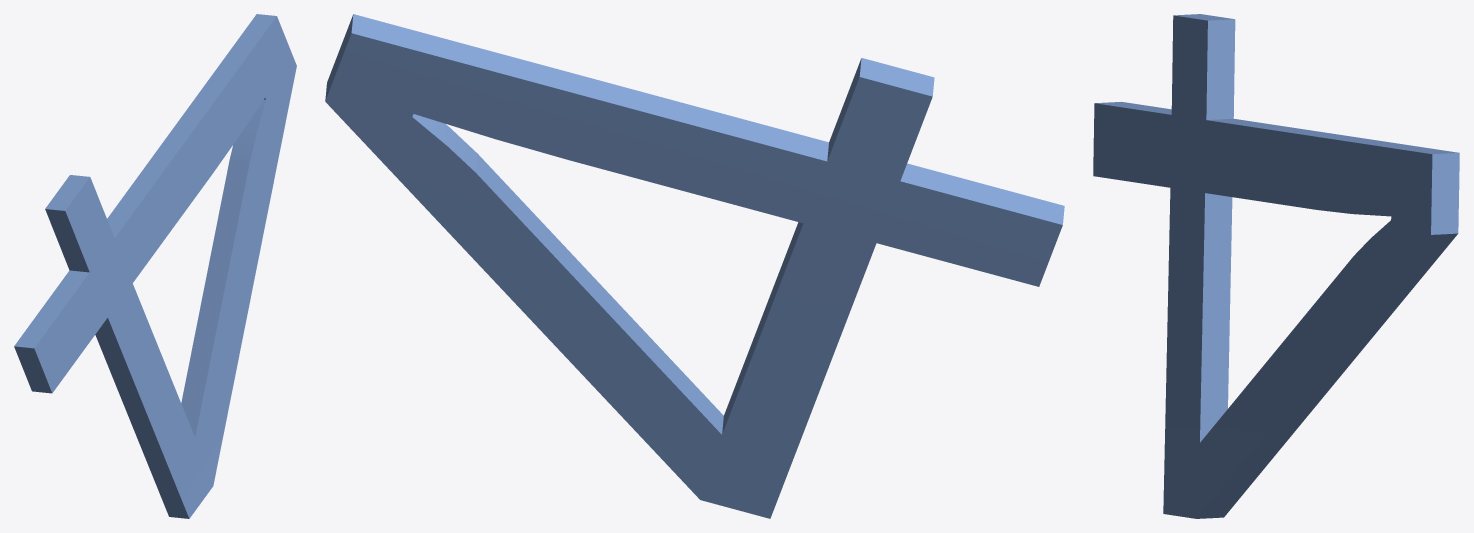
File: New_Number_4.gltf
3 views of the same model, side by side, from view 1: azimuth 30°, elevation 25°; view 2: azimuth 150°, elevation 25°; view 3: azimuth 270°, elevation 25° (orthographic). The views are drawn at different scales.
Visible parts, largest first — view 1: Part 544; view 2: Part 544; view 3: Part 544.
Boxes of the visible parts, box(x1,y1,x2,y2) form: Part 544: box(14, 14, 296, 518); Part 544: box(325, 14, 1064, 518); Part 544: box(1093, 14, 1459, 518).
Bounding box in the file's own units: 0.00484 × 0.00436 × 0.00299.
